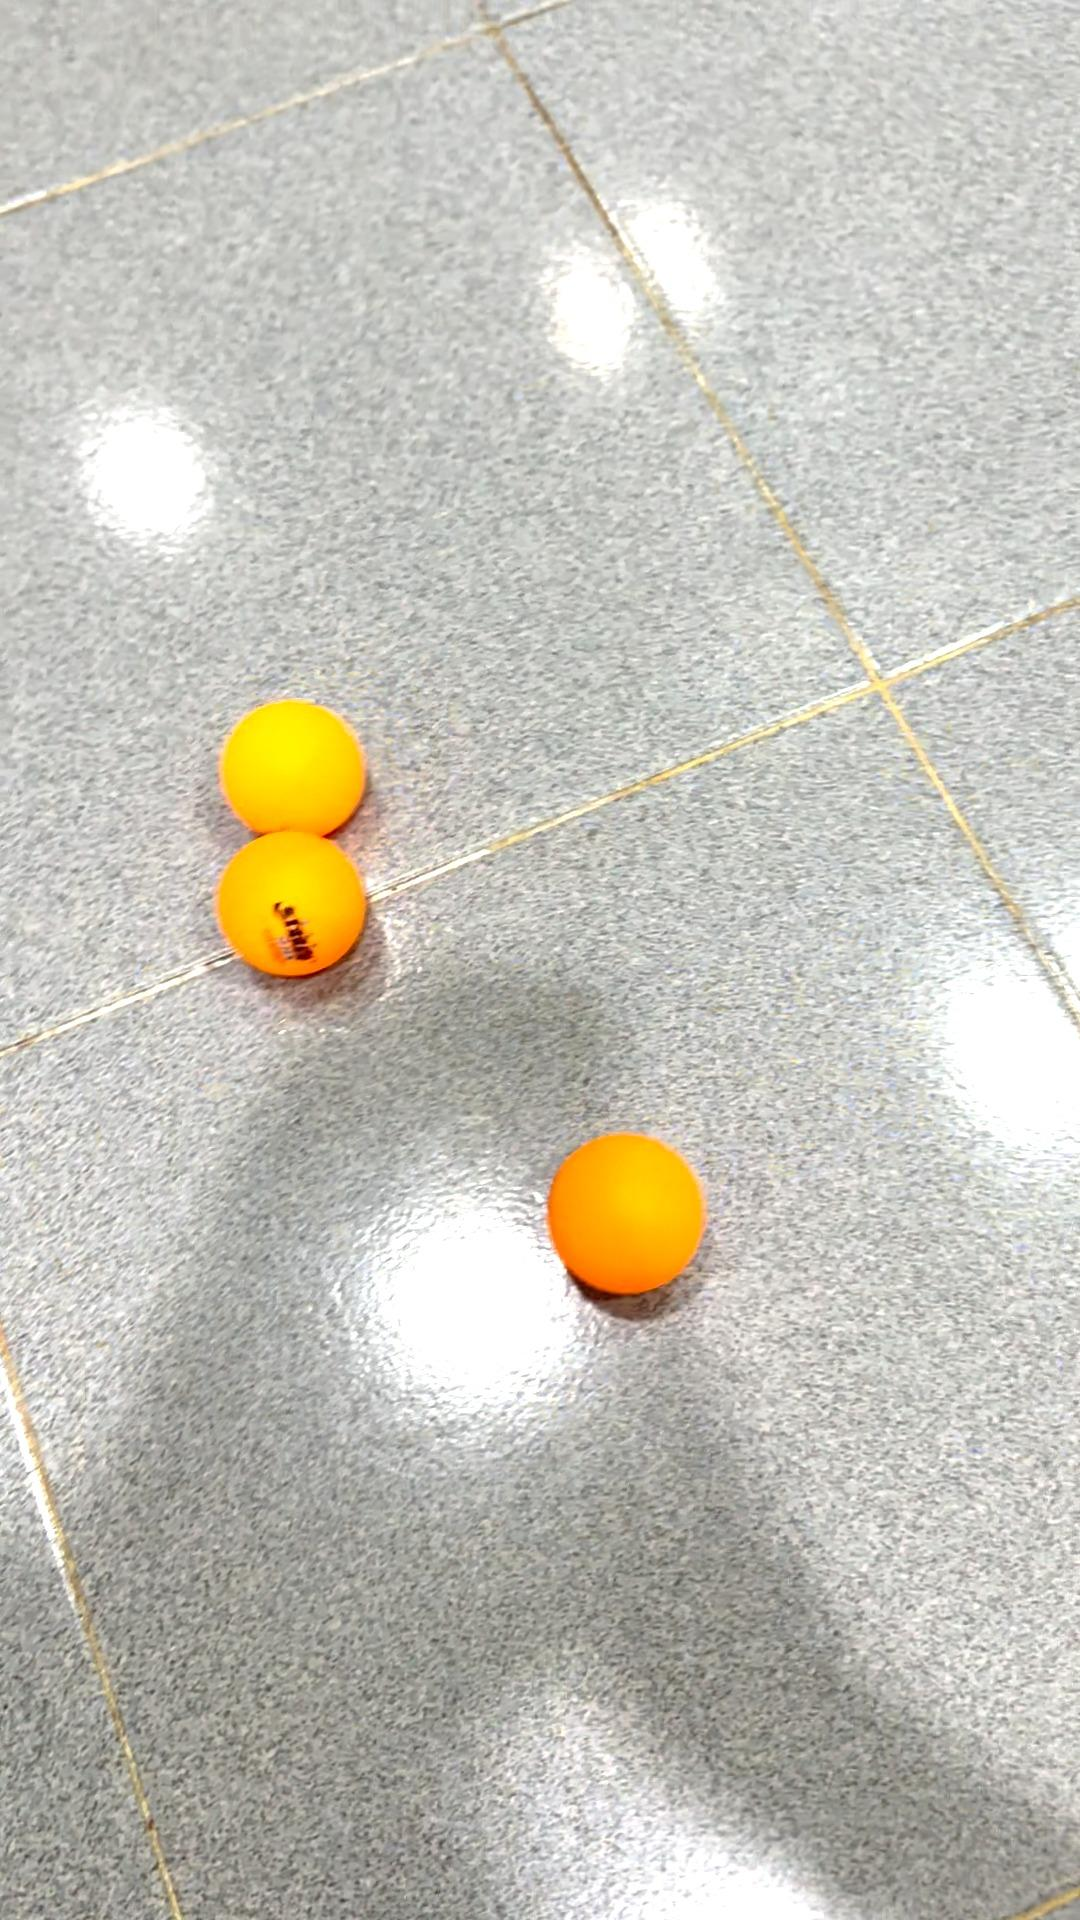oball: (547, 1112, 728, 1312), (211, 822, 402, 986), (202, 688, 384, 853)
